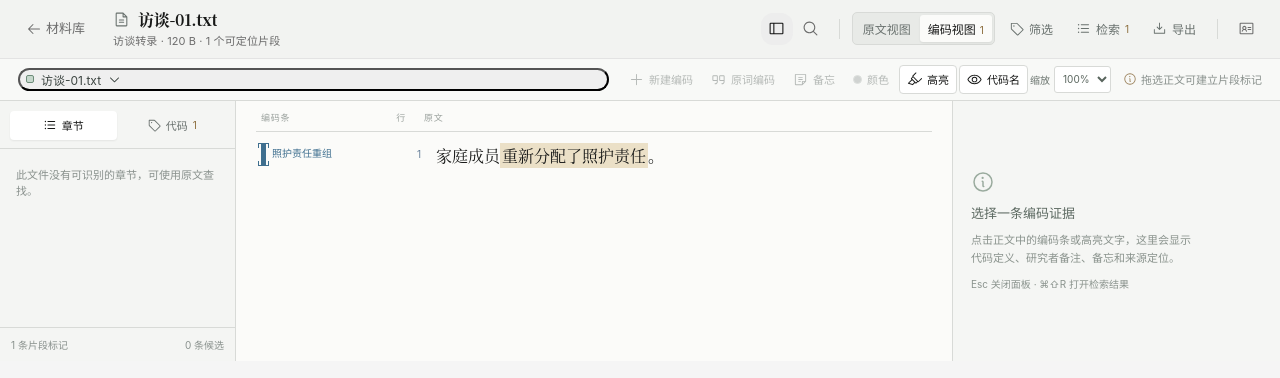
Scenario: coded document workbench › opens retrieved segments as a source-linked result view
Click the button "检索 1" at (1102, 29), box [1067,14,1138,44]
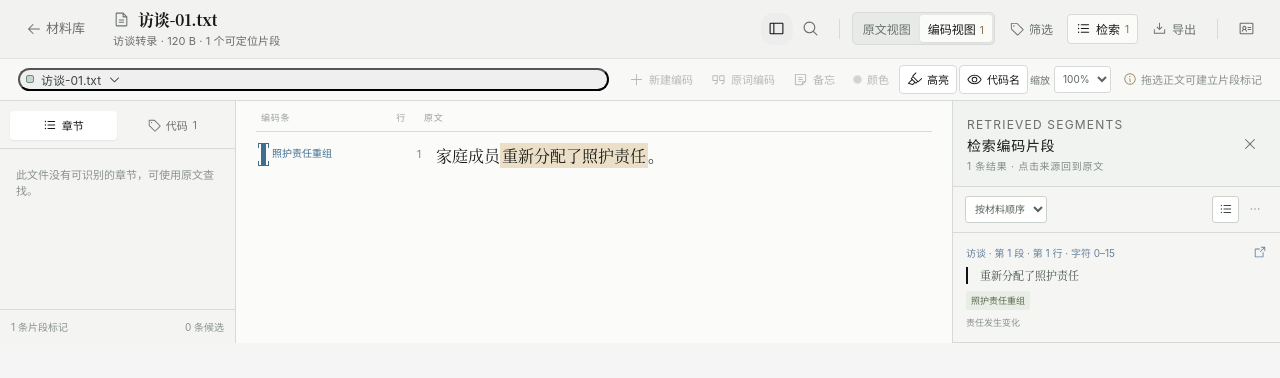
Now the text "检索编码片段" is shown, box [967,137,1055,154]
Now the text "重新分配了照护责任" below "条结果 · 点击来源回到原文" is shown, box [980,267,1079,283]
